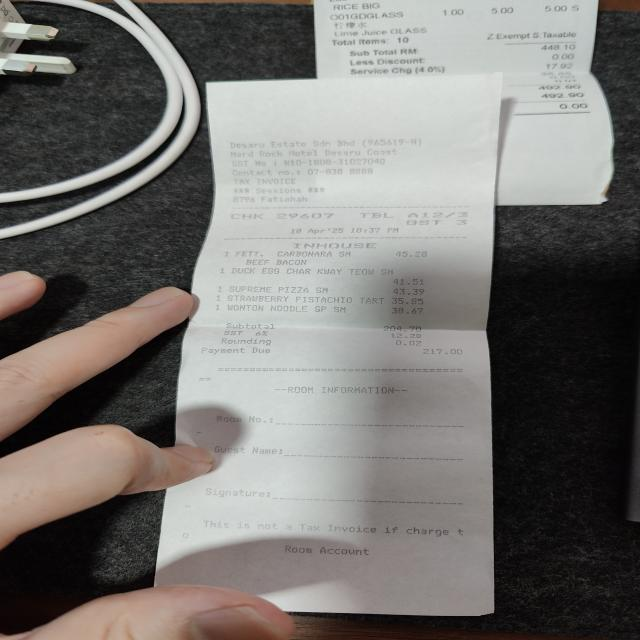bill_region: (198, 248, 476, 364)
